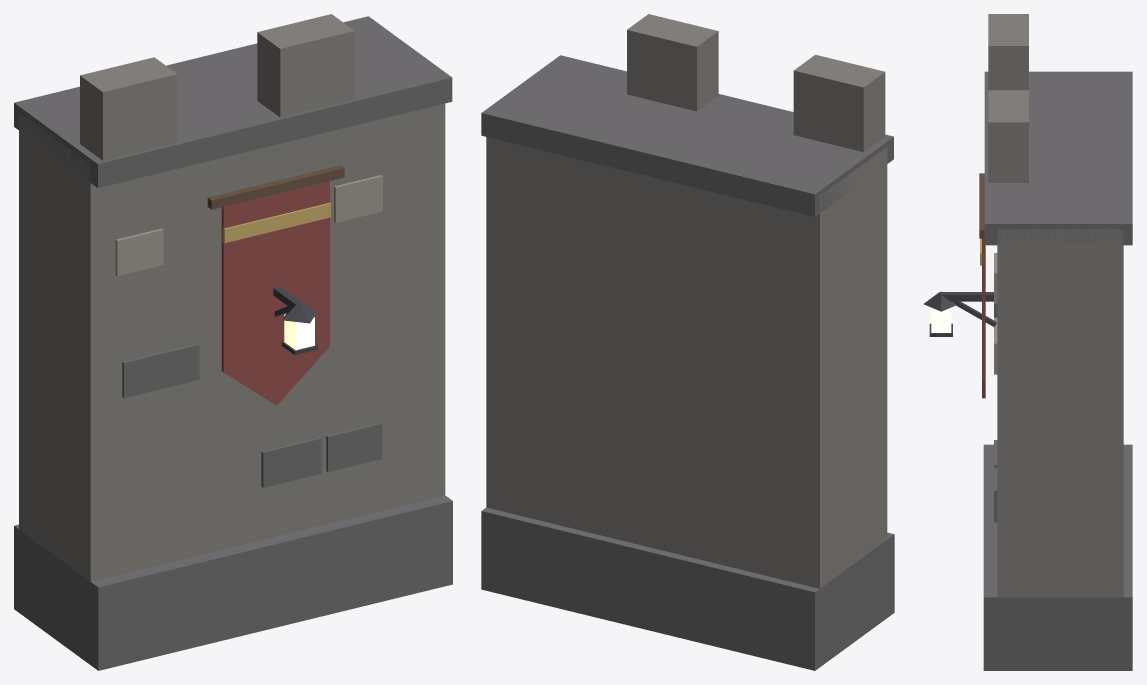
File: curtain_lamp.glb
The picture shows the model from 3 angles, left to right: view 1: azimuth 30°, elevation 25°; view 2: azimuth 150°, elevation 25°; view 3: azimuth 270°, elevation 25°; orthographic projection. The views are drawn at different scales.
Parts seen in each view (by area): view 1: Upper, Plinth; view 2: Upper, Plinth; view 3: Upper, Plinth.
Part boxes in pixels (left/top/right/bottom): Upper: left=14, top=14, right=452, bottom=581; Plinth: left=14, top=495, right=452, bottom=670; Upper: left=481, top=14, right=893, bottom=588; Plinth: left=481, top=507, right=894, bottom=670; Upper: left=923, top=14, right=1132, bottom=597; Plinth: left=983, top=444, right=1132, bottom=670.
Bounding box in the file's own units: 4 × 6.2 × 2.32.
